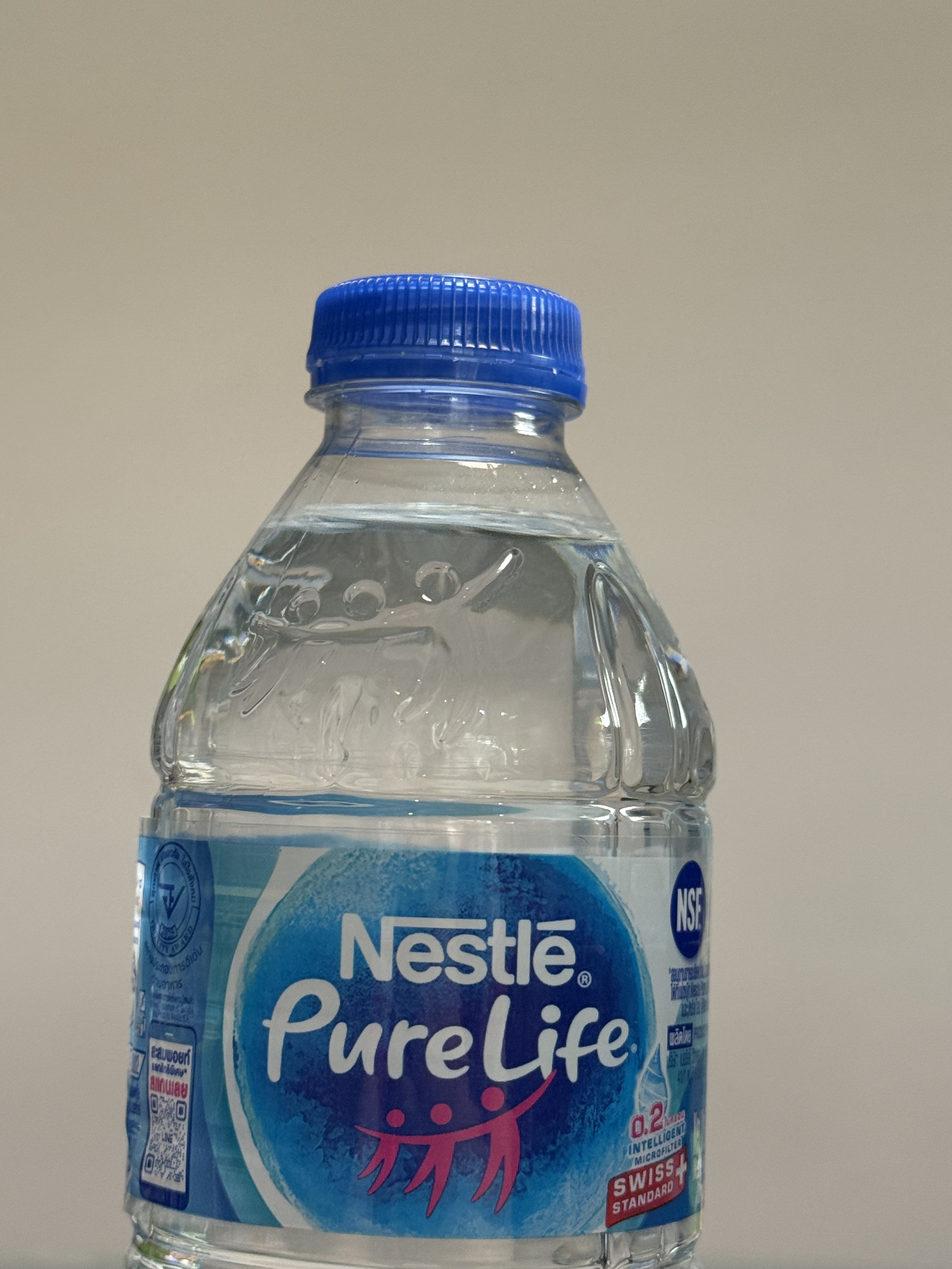closed_cap: (302, 268, 590, 415)
